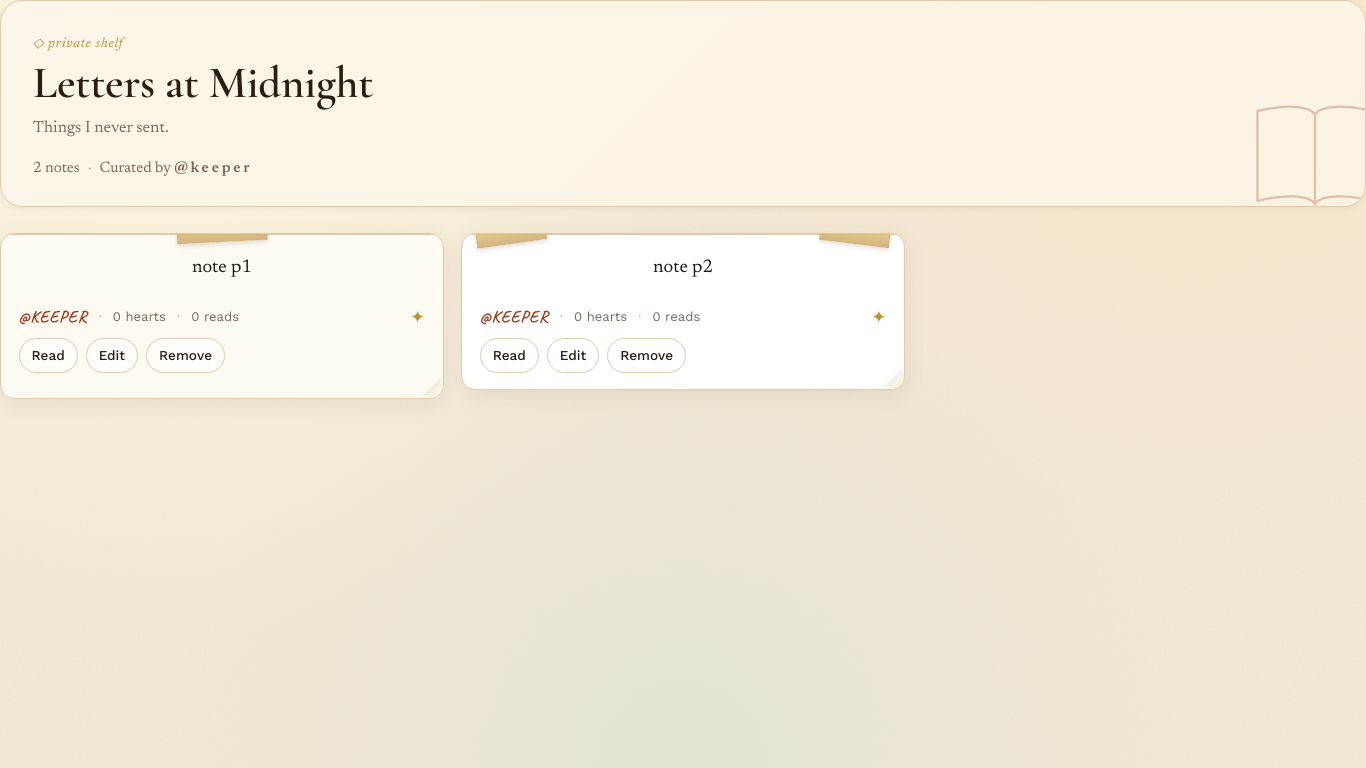
Test: CollectionDetailPage › falls back to a generic removal error when the failure carries no detail
Expected: the text "note p1" is shown, left=192, top=258, right=252, bottom=277
Click the button "Remove" below "note p1": click(186, 356) left=146, top=338, right=225, bottom=373
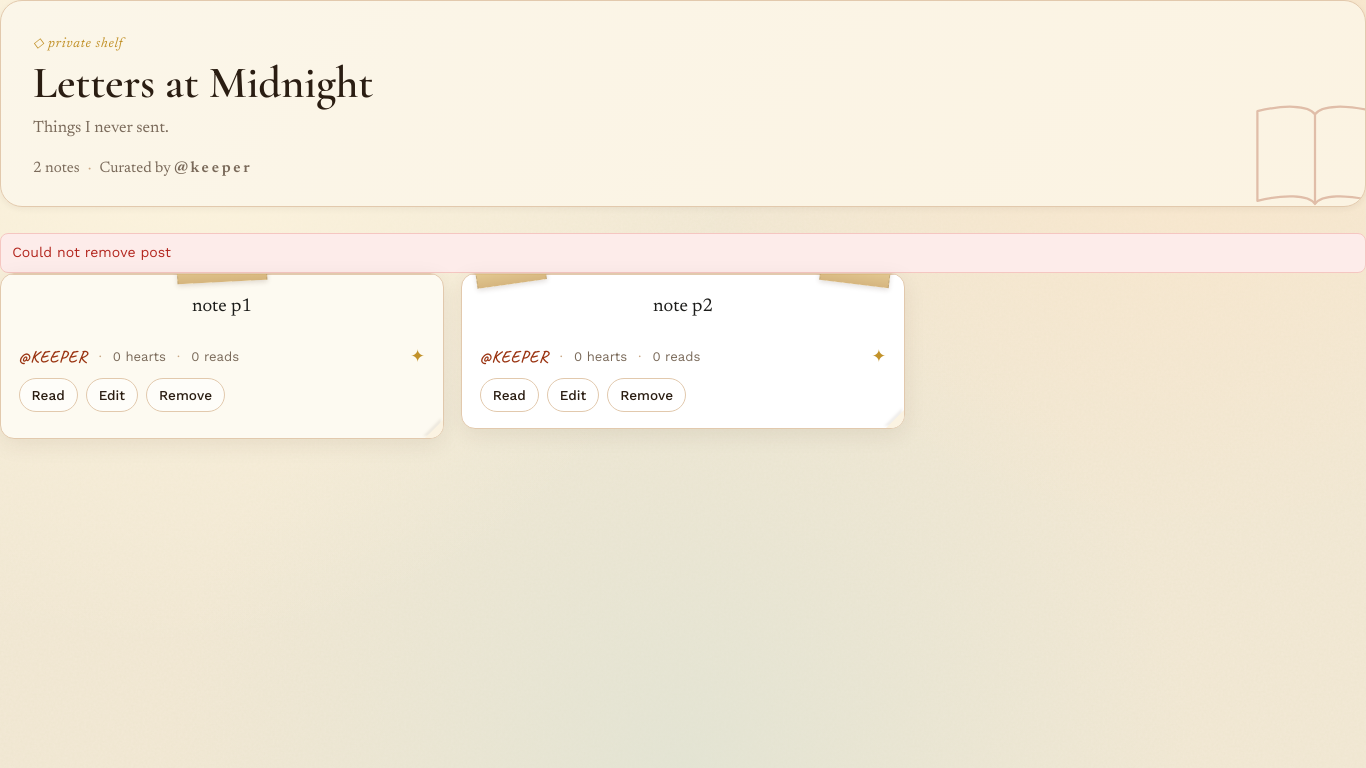
Expected: the text "Could not remove post" is shown, left=0, top=233, right=1365, bottom=273
